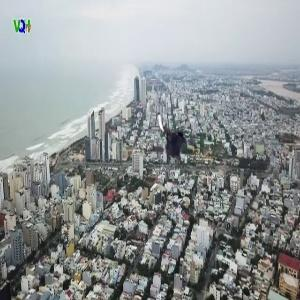drone: (139, 101, 211, 173)
